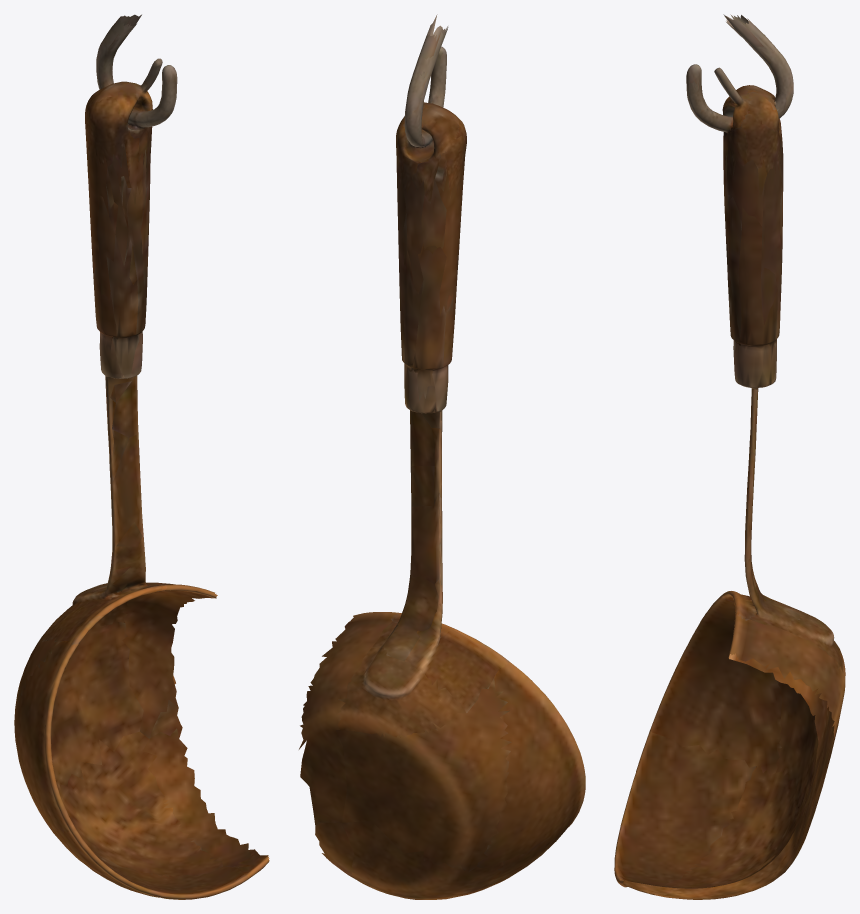
File: d_ladle.glb
The picture shows the model from 3 angles, left to right: view 1: azimuth 30°, elevation 25°; view 2: azimuth 150°, elevation 25°; view 3: azimuth 270°, elevation 25°; orthographic projection. The views are drawn at different scales.
Size of the model in its own units: 0.2322 by 0.9523 by 0.2309.
Materials: 1 (1 with a texture image).
